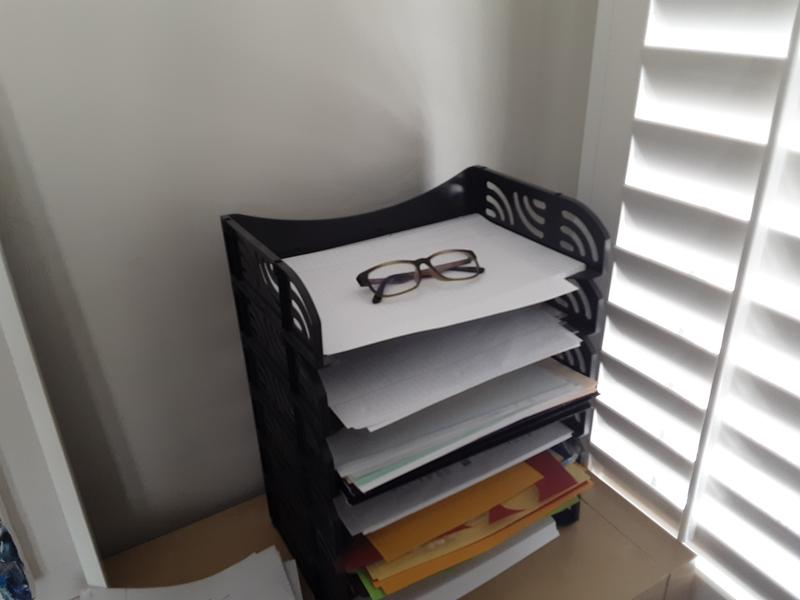glasses: (354, 249, 487, 306)
